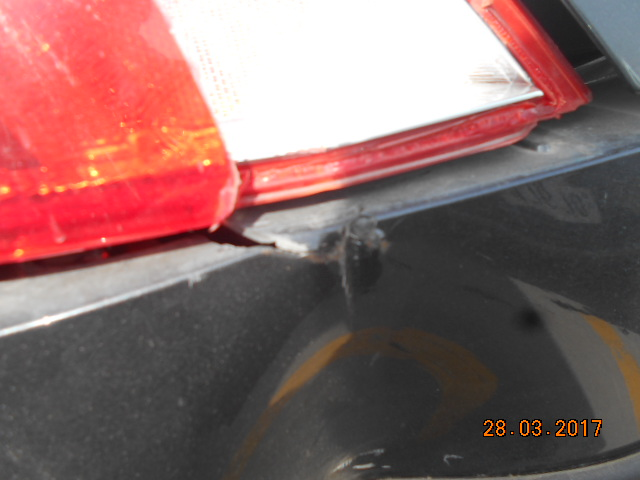Tear: (223, 221, 285, 261)
